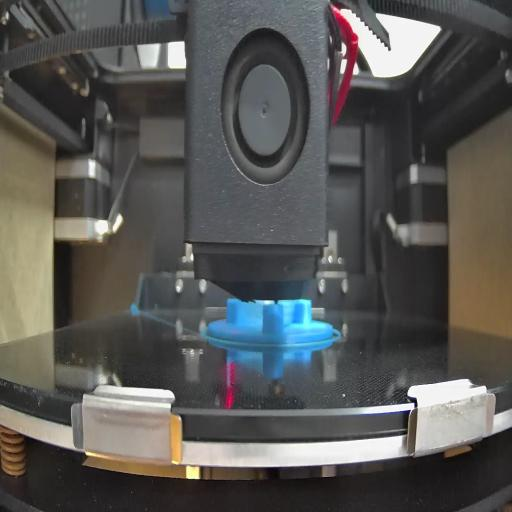stringing: (283, 300, 312, 326), (242, 305, 264, 329)
